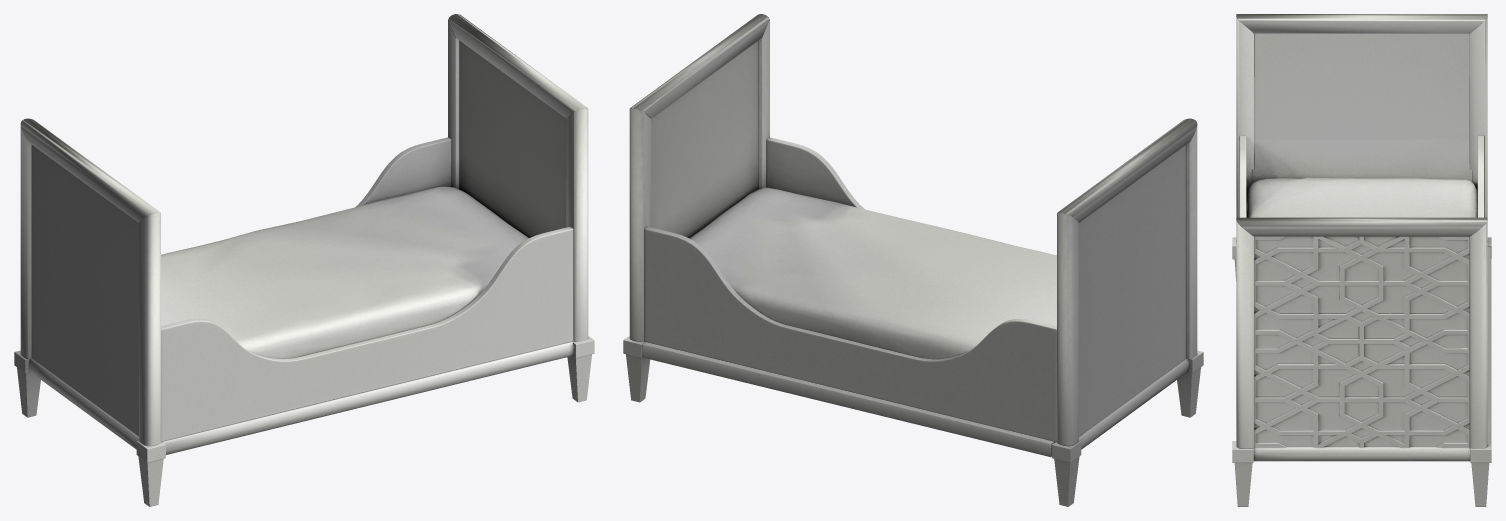
The model's file is chair.glb.
3 views of the same model, side by side, from view 1: azimuth 30°, elevation 25°; view 2: azimuth 150°, elevation 25°; view 3: azimuth 270°, elevation 25° (orthographic). The views are drawn at different scales.
Parts seen in each view (by area): view 1: Mattress001_Retopo_Retopo, Mattress001_Retopo_Retopo_Complex; view 2: Mattress001_Retopo_Retopo, Mattress001_Retopo_Retopo_Complex; view 3: Mattress001_Retopo_Retopo, Mattress001_Retopo_Retopo_Complex.
Part boxes in pixels (x1,y1,x2,y2): Mattress001_Retopo_Retopo: [14, 14, 594, 506]; Mattress001_Retopo_Retopo_Complex: [459, 40, 566, 237]; Mattress001_Retopo_Retopo: [623, 14, 1203, 506]; Mattress001_Retopo_Retopo_Complex: [651, 40, 758, 238]; Mattress001_Retopo_Retopo: [1232, 14, 1491, 506]; Mattress001_Retopo_Retopo_Complex: [1254, 236, 1469, 447].
Size of the model in its own units: 15.97 by 10.04 by 8.23.
2 materials, 2 textured.
